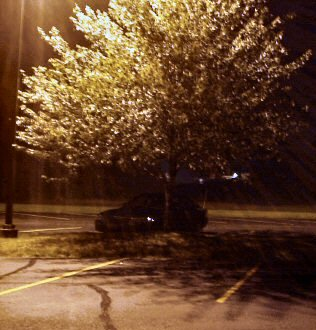car: (93, 188, 213, 241)
